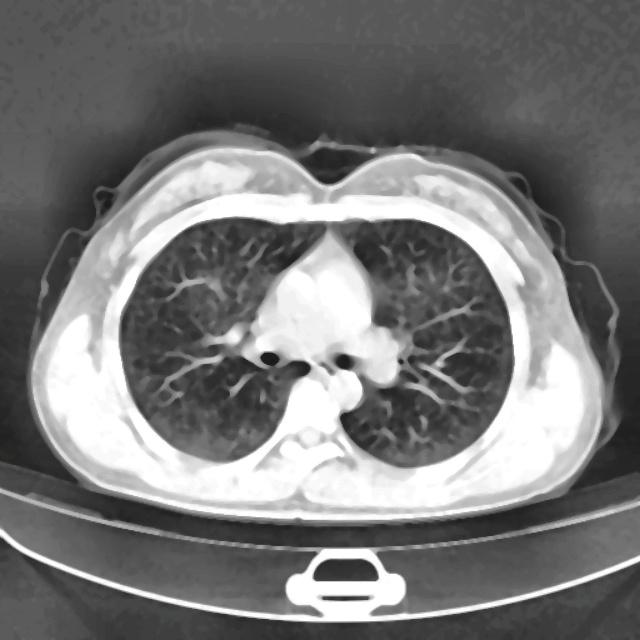covid: (26, 127, 623, 525)
